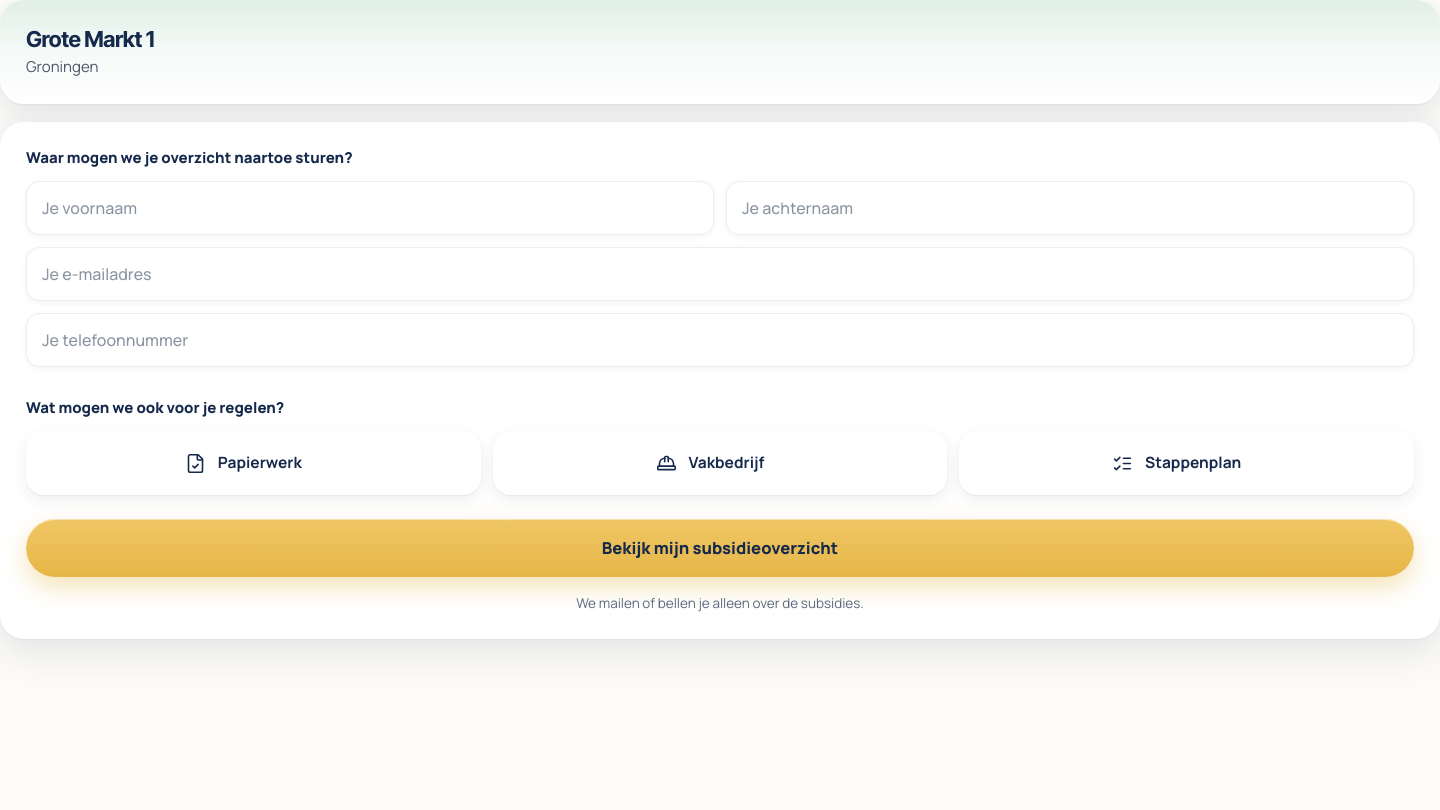
it: gegevens-poort bij een bronfout › maakt alle lege velden in één keer rood, en een gevuld veld weer gewoon
Later steps or results of the test are not shown.
Expected: the field with placeholder "Je voornaam" is shown, top-left (26, 181), bottom-right (714, 235)
In the field with placeholder "Je e-mailadres": [720, 274] box top-left (26, 247), bottom-right (1414, 301), type "jan@example.nl"
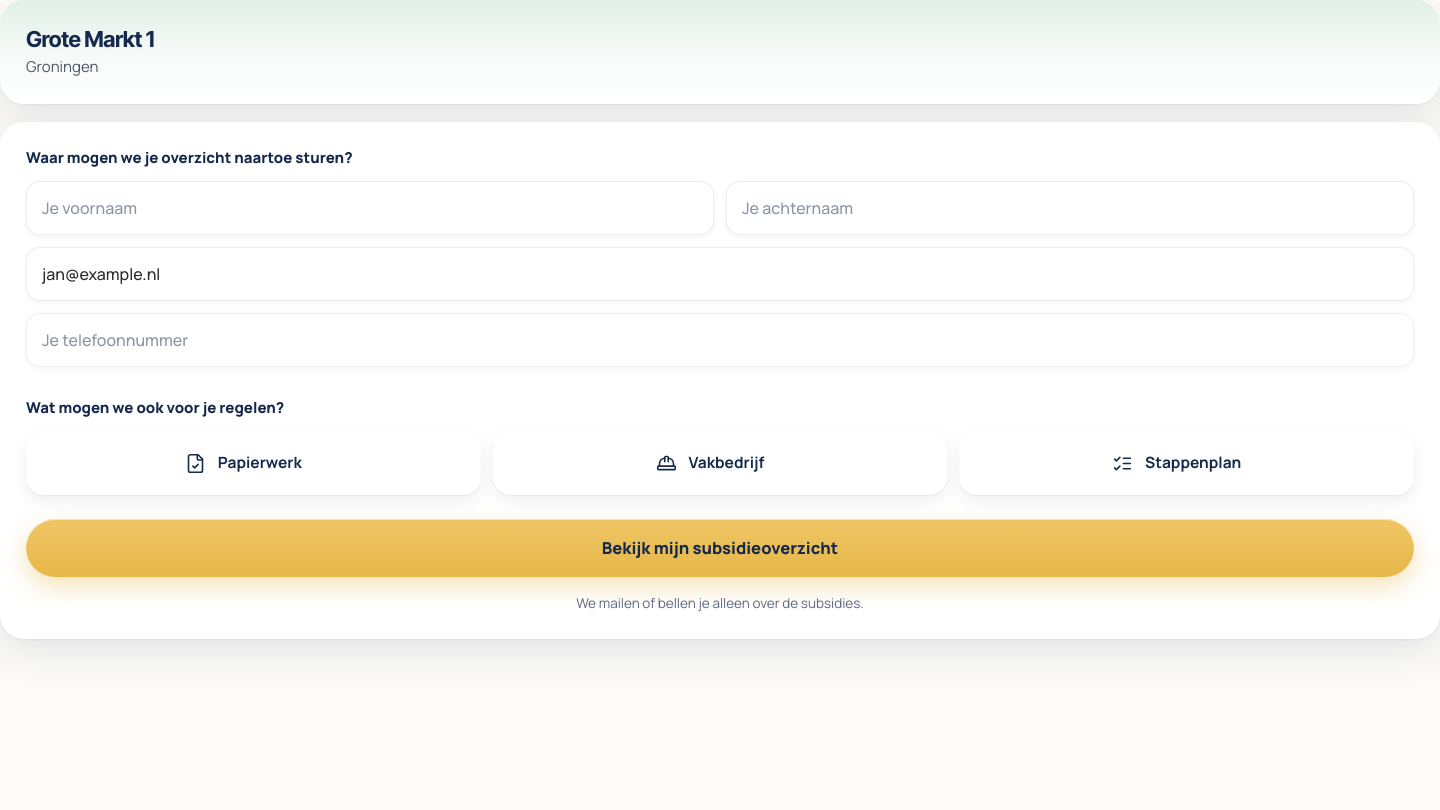
Click the button "Bekijk mijn subsidieoverzicht": [720, 548] box top-left (26, 519), bottom-right (1414, 577)
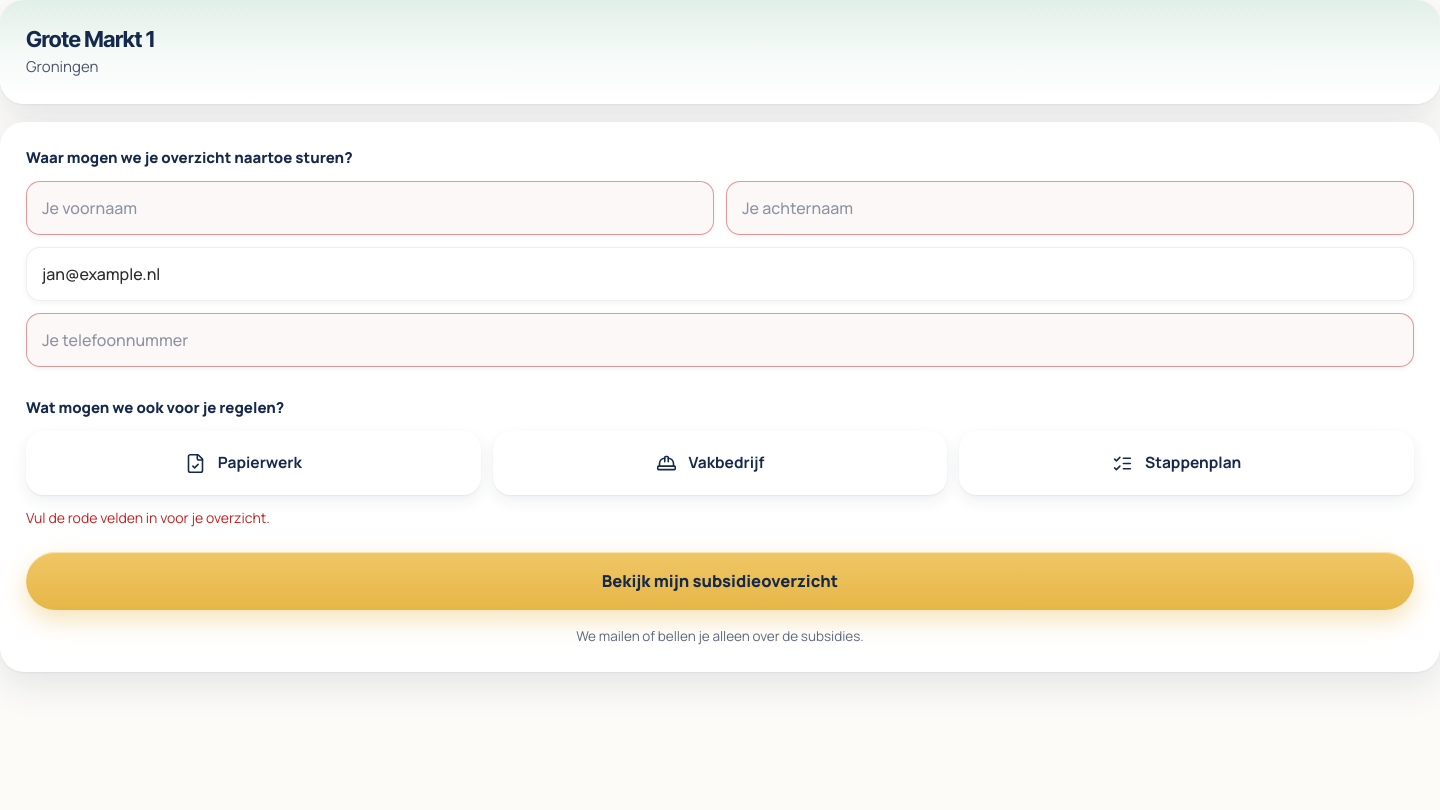
Result: the message "Vul de rode velden in voor je overzicht." is shown at top-left (26, 508), bottom-right (270, 527)
